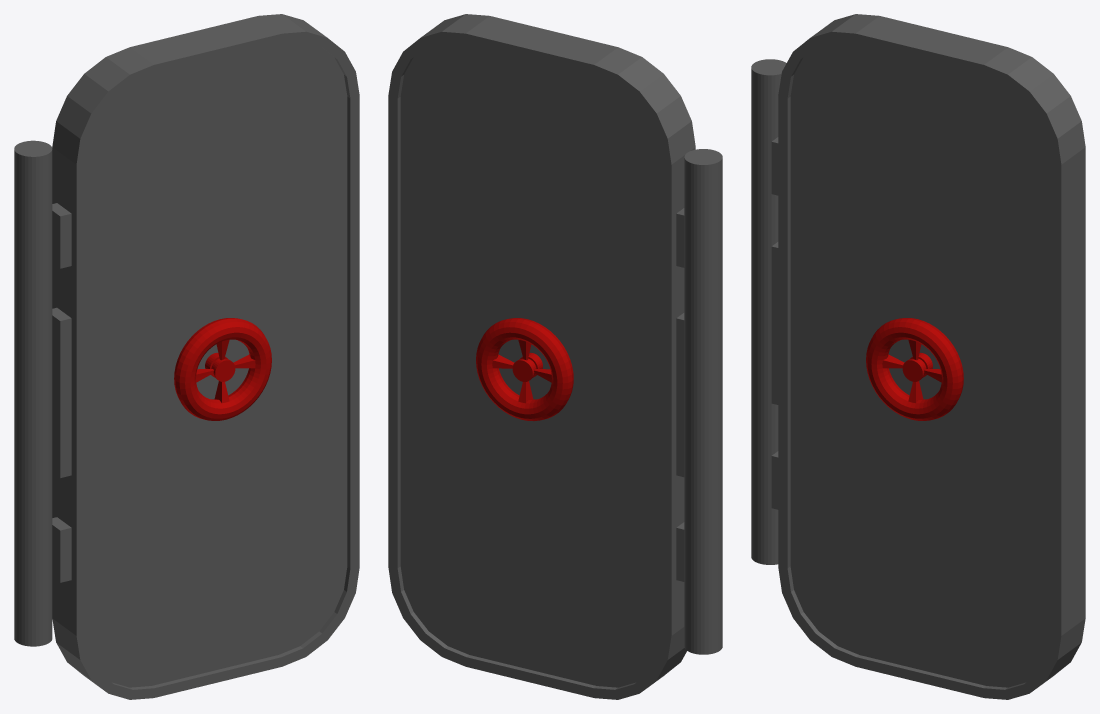
File: metalDoor.fbx
The picture shows the model from 3 angles, left to right: view 1: azimuth 30°, elevation 25°; view 2: azimuth 150°, elevation 25°; view 3: azimuth 330°, elevation 25°; orthographic projection.
Parts seen in each view (by area): view 1: bulkheadDoor; view 2: bulkheadDoor; view 3: bulkheadDoor.
Part boxes in pixels (x1,y1,x2,y2): bulkheadDoor: (14, 14, 359, 699); bulkheadDoor: (388, 14, 722, 699); bulkheadDoor: (751, 14, 1085, 699).
Bounding box in the file's own units: 85.09 × 158 × 20.45.
